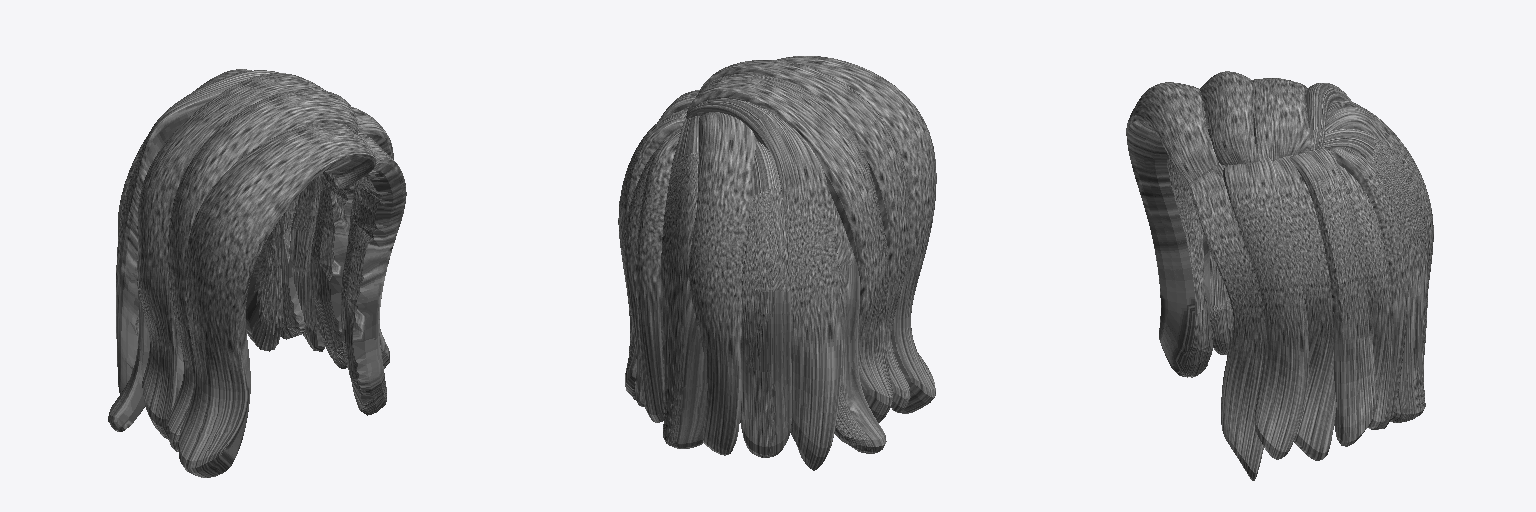
The picture shows the model from 3 angles: view 1: azimuth 30°, elevation 25°; view 2: azimuth 150°, elevation 25°; view 3: azimuth 270°, elevation 25°; orthographic projection.
Visible parts, largest first — view 1: 007_HairBand01_Cube.150, 007_HairBand03_Cube.154, 007_HairBand02_Cube.151, 007_HairBand14_Cube.152, 007_HairBand05_Cube.156, 007_HairBand12_Cube.153, 007_HairBang09_Cube.160, 007_HairBand11_Cube.148, 007_HairBand04_Cube.159, 007_HairBand10_Cube.149, 007_HairBand13_Cube.147; view 2: 007_HairBand05_Cube.156, 007_HairBand07_Cube.155, 007_HairBand03_Cube.154, 007_HairBand06_Cube.158, 007_HairBand08_Cube.157, 007_HairBand01_Cube.150, 007_HairBand02_Cube.151, 007_HairBang09_Cube.160, 007_HairBand04_Cube.159, 007_HairBand11_Cube.148, 007_HairBand10_Cube.149; view 3: 007_HairBand01_Cube.150, 007_HairBand13_Cube.147, 007_HairBand11_Cube.148, 007_HairBand14_Cube.152, 007_HairBand12_Cube.153, 007_HairBand08_Cube.157, 007_HairBand02_Cube.151, 007_HairBand10_Cube.149, 007_HairBang09_Cube.160, 007_HairBand03_Cube.154, 007_HairBand07_Cube.155, 007_HairBand05_Cube.156.
Boxes of the visible parts, box(x1,y1,x2,y2) form: 007_HairBand01_Cube.150: box(179, 122, 375, 477); 007_HairBand03_Cube.154: box(137, 73, 325, 439); 007_HairBand02_Cube.151: box(167, 89, 357, 451); 007_HairBand14_Cube.152: box(341, 131, 406, 415); 007_HairBand05_Cube.156: box(116, 70, 278, 393); 007_HairBand12_Cube.153: box(310, 177, 353, 368); 007_HairBang09_Cube.160: box(246, 222, 282, 351); 007_HairBand11_Cube.148: box(290, 174, 324, 351); 007_HairBand04_Cube.159: box(108, 259, 149, 431); 007_HairBand10_Cube.149: box(279, 196, 304, 339); 007_HairBand13_Cube.147: box(348, 107, 393, 368); 007_HairBand05_Cube.156: box(686, 98, 841, 470); 007_HairBand07_Cube.155: box(689, 112, 756, 455); 007_HairBand03_Cube.154: box(687, 74, 893, 422); 007_HairBand06_Cube.158: box(740, 141, 791, 457); 007_HairBand08_Cube.157: box(661, 116, 707, 448); 007_HairBand01_Cube.150: box(777, 56, 936, 413); 007_HairBand02_Cube.151: box(698, 60, 910, 412); 007_HairBang09_Cube.160: box(636, 127, 681, 422); 007_HairBand04_Cube.159: box(829, 191, 886, 453); 007_HairBand11_Cube.148: box(618, 109, 687, 399); 007_HairBand10_Cube.149: box(624, 150, 656, 406); 007_HairBand01_Cube.150: box(1126, 82, 1218, 377); 007_HairBand13_Cube.147: box(1223, 157, 1309, 459); 007_HairBand11_Cube.148: box(1290, 148, 1377, 446); 007_HairBand14_Cube.152: box(1188, 163, 1264, 480); 007_HairBand12_Cube.153: box(1273, 155, 1336, 460); 007_HairBand08_Cube.157: box(1322, 129, 1427, 422); 007_HairBand02_Cube.151: box(1200, 71, 1258, 355); 007_HairBand10_Cube.149: box(1338, 164, 1393, 428); 007_HairBang09_Cube.160: box(1329, 147, 1408, 429); 007_HairBand03_Cube.154: box(1252, 78, 1310, 160); 007_HairBand07_Cube.155: box(1325, 100, 1433, 354); 007_HairBand05_Cube.156: box(1306, 83, 1351, 149).
Bounding box in the file's own units: 63.97 × 80.68 × 64.61.
1 materials, 1 textured.